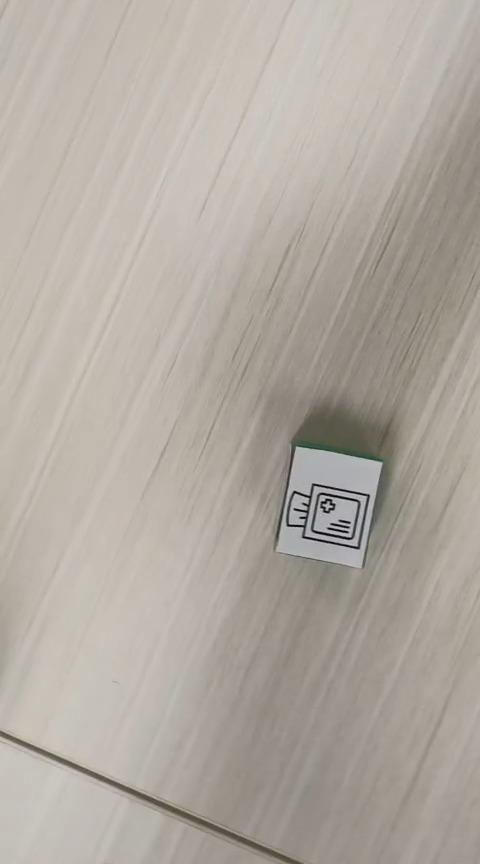Gauze: (272, 441, 384, 569)
